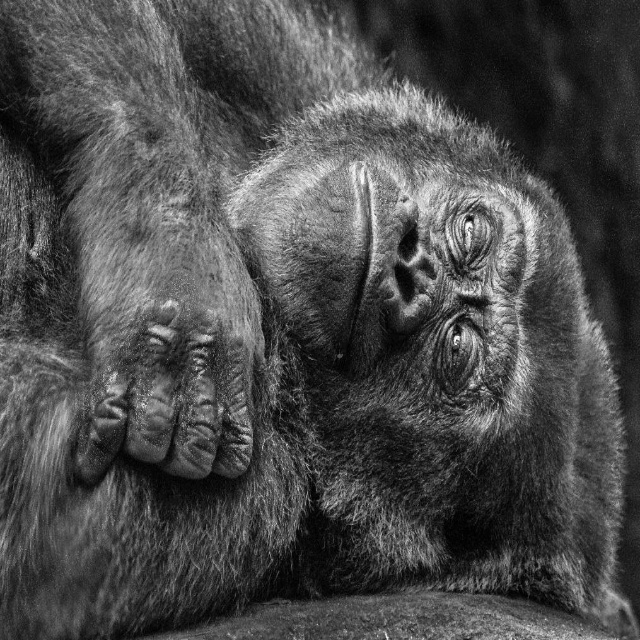Monkey: (0, 0, 625, 639)
